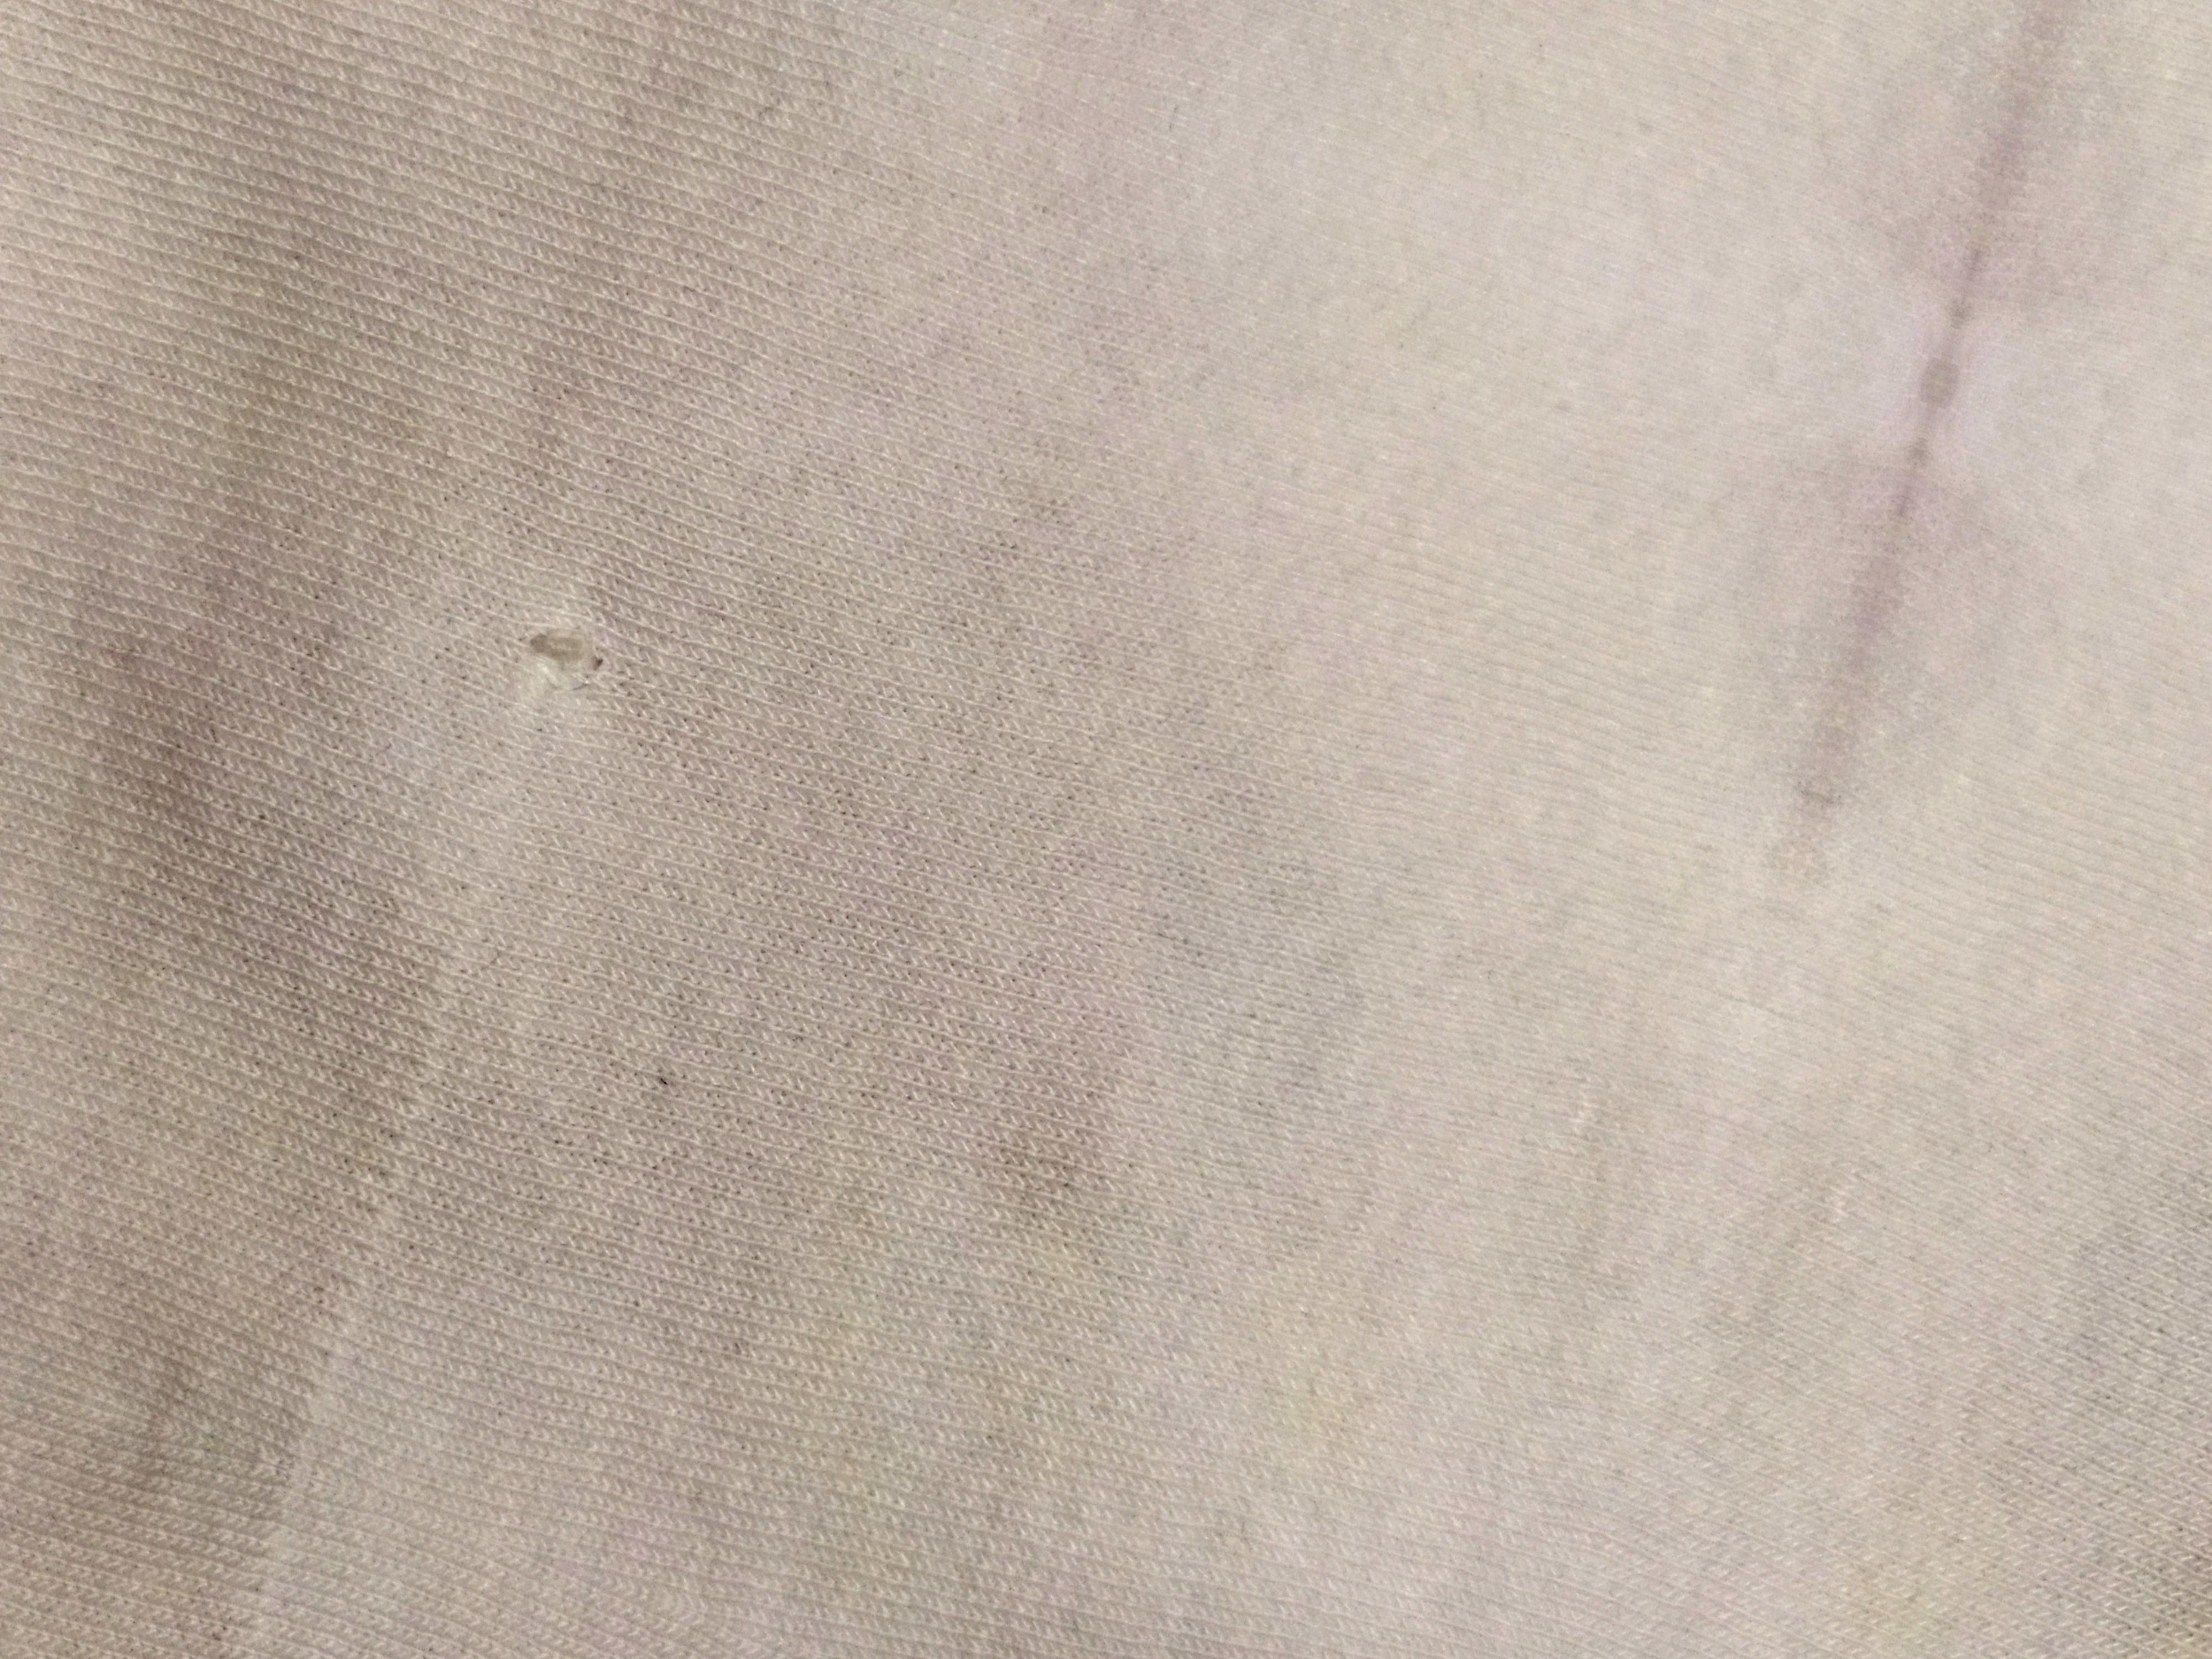knot: (498, 561, 637, 702)
